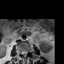CCS_normal: (23, 48, 25, 58)
LFS_stenosis: (27, 48, 29, 54)
LLS_normal: (25, 48, 27, 57)
RFS_normal: (19, 49, 21, 56)
RLS_normal: (21, 48, 23, 57)
